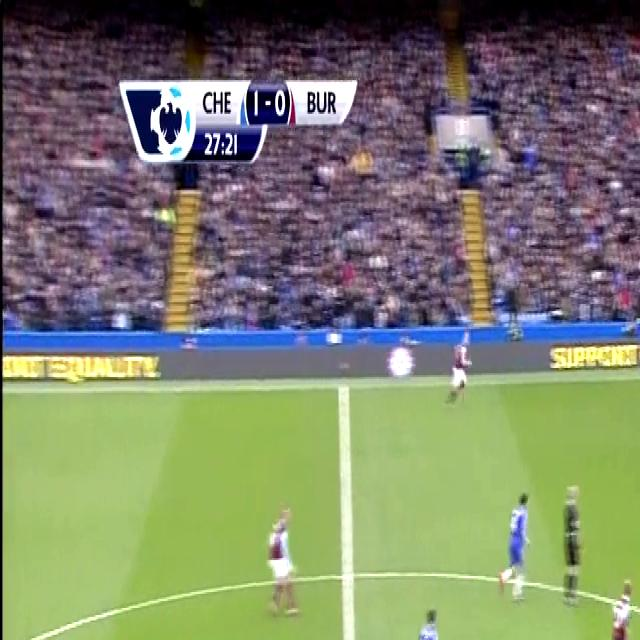referee: (558, 464, 590, 614)
soccer-player: (257, 491, 305, 628), (496, 476, 532, 612), (594, 567, 640, 640), (445, 316, 477, 409), (400, 595, 446, 640), (639, 396, 640, 496)
